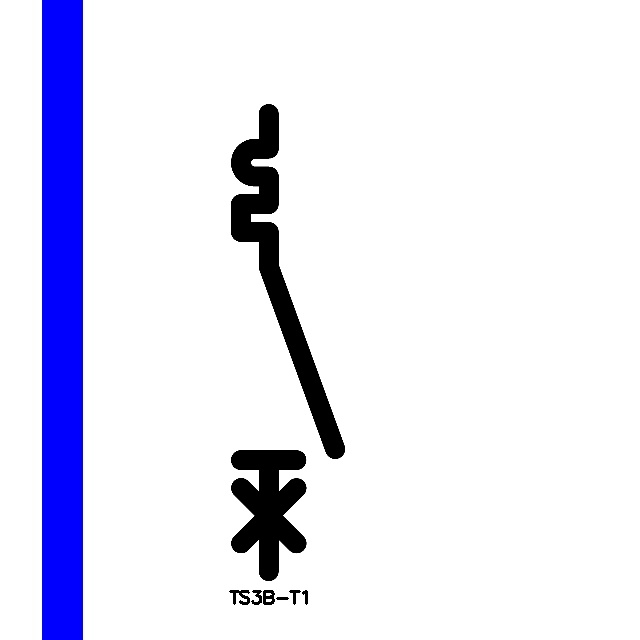interruptor_termomagnetico: (229, 102, 347, 583)
